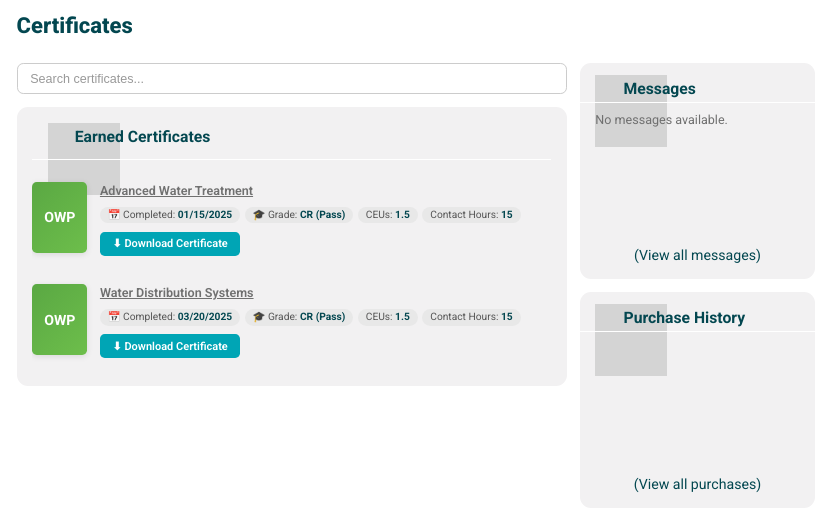
Scenario: CertificatesPage — Integration Tests › shows all certificates when search is cleared
Type "advanced" into the field with class "search-input" at (292, 79), box 17,63 -> 567,94
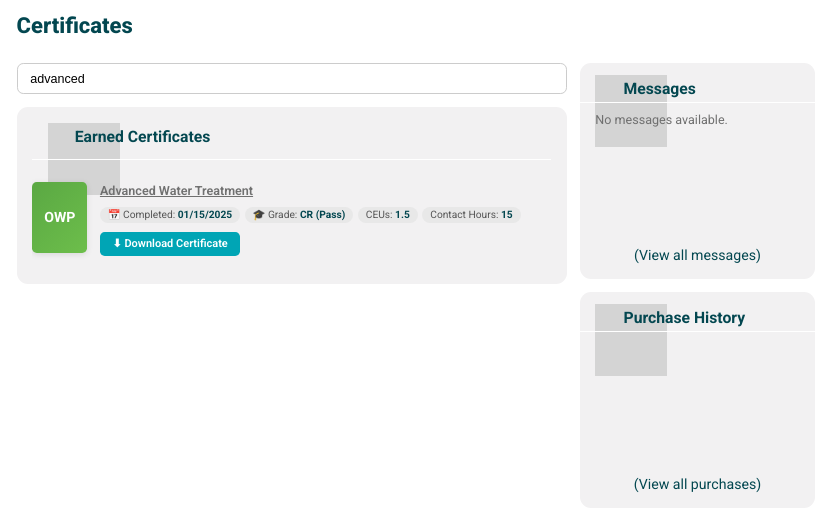
Clear the field with class "search-input" at (292, 79), box 17,63 -> 567,94
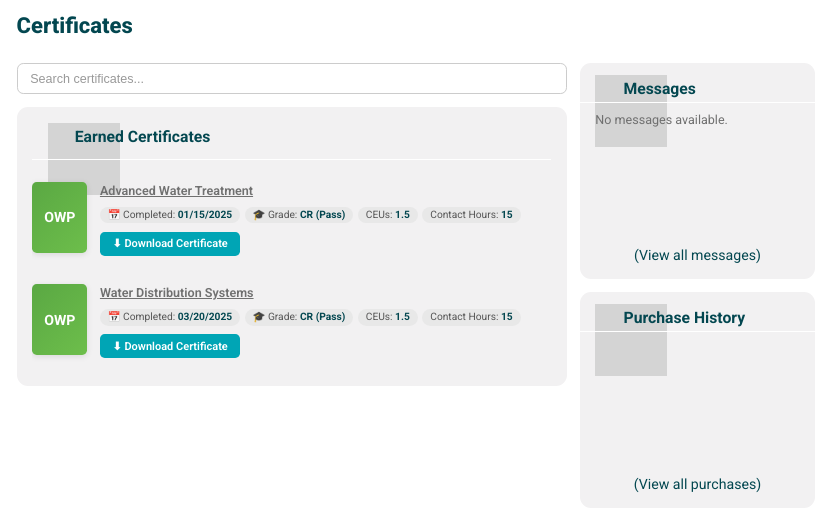
Expected: the number of elements with class "certificate-item" is 2, 32,182 -> 521,256; 32,284 -> 521,358
